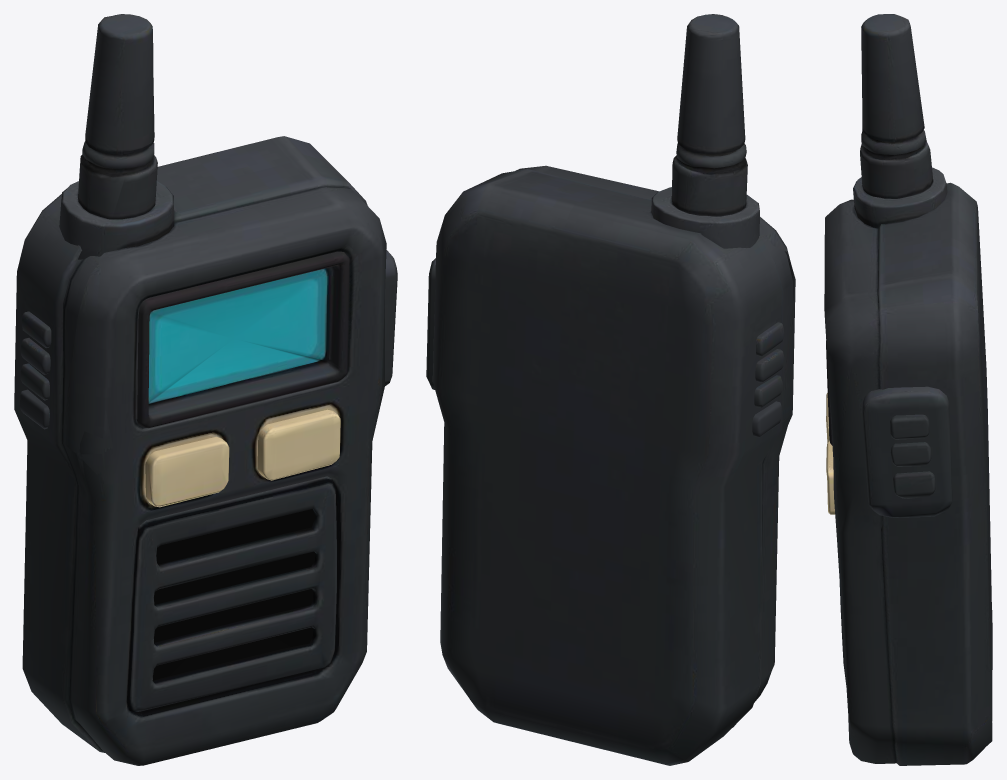
Rendered from electronics.glb.
The picture shows the model from 3 angles, left to right: view 1: azimuth 30°, elevation 25°; view 2: azimuth 150°, elevation 25°; view 3: azimuth 270°, elevation 25°; orthographic projection. The views are drawn at different scales.
Parts seen in each view (by area): view 1: electronics; view 2: electronics; view 3: electronics.
Part boxes in pixels (x1,y1,x2,y2): electronics: [14, 14, 397, 765]; electronics: [426, 14, 795, 765]; electronics: [824, 14, 992, 765].
Size of the model in its own units: 0.1082 by 0.22 by 0.0506.
Materials: 1 (1 with a texture image).
